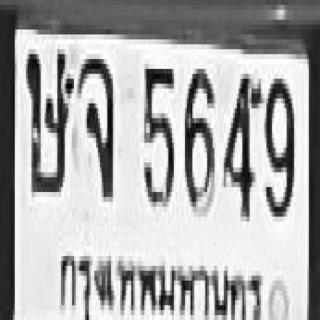A08: (77, 54, 112, 197)
A39: (24, 44, 70, 192)
N04: (221, 66, 258, 214)
N05: (142, 59, 172, 202)
N06: (183, 62, 213, 204)
N09: (263, 74, 292, 217)
P04: (50, 237, 270, 320)
